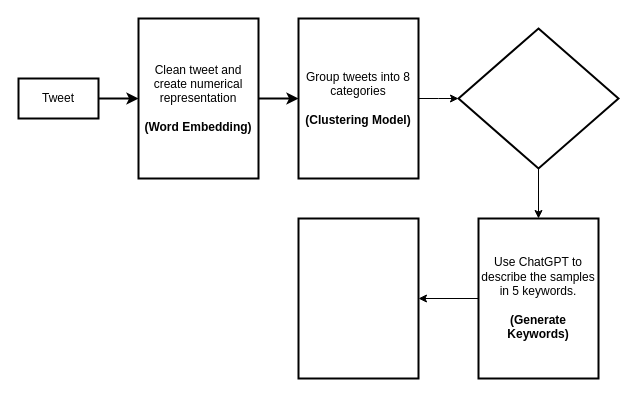
Image size: 636x396. Some labels were removed from this diagram. Here are the shapes that lost their labels. From the top down, the box of each, then its label:
(457, 27, 619, 169): Sample 50-100 tweets from each group
(297, 217, 419, 379): Train a model to assign labels to ALL TWEETS (Multioutput Classification)
